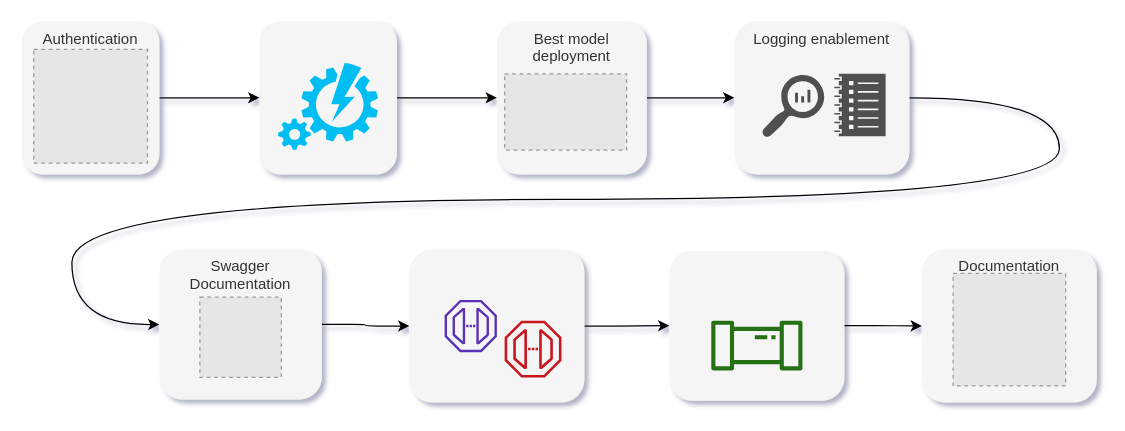
Some shapes in this 1125 by 431 pixel diagram are drawn without their labels. Grey dashed boxes stand in for pictures. The shapes that lost their labels are listed below. From the top down, each one's box as (x1, y1, x2, y2) in pixels, then its label:
(259, 21, 396, 174): Auto ML Model
(409, 249, 584, 402): Model endpoints consuming
(669, 250, 844, 400): Creation & publishing of the pipeline
